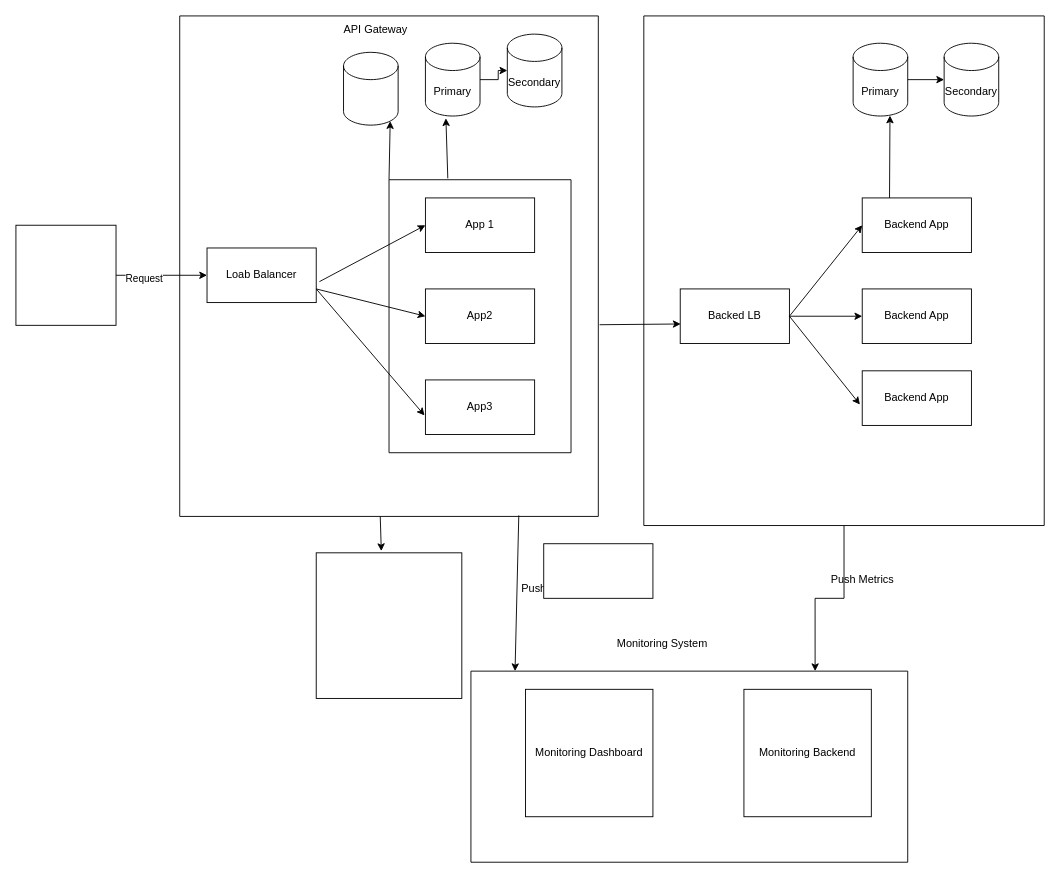
This 1060x878 diagram has some shape labels left out. The box of each missing label's shape, as (x1, y1, x2, y2) in pixels:
Backend Application: (643, 15, 1044, 526)
Central Logging System: (315, 552, 462, 698)
Client: (15, 224, 116, 325)
Redis Cache: (343, 51, 398, 125)
